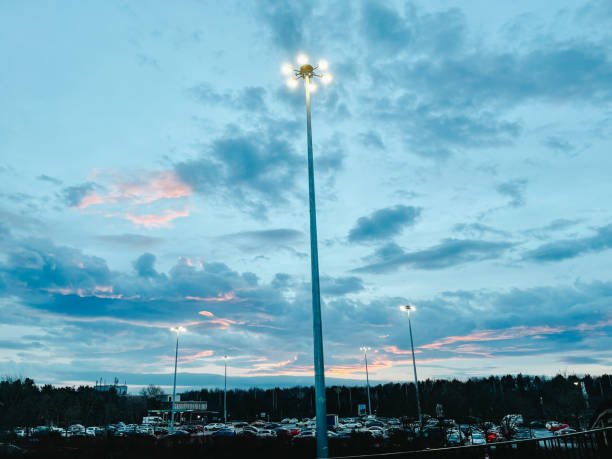light_pole: (300, 115, 334, 448)
